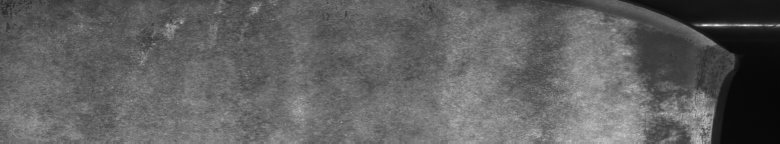kb: (623, 0, 742, 144)
